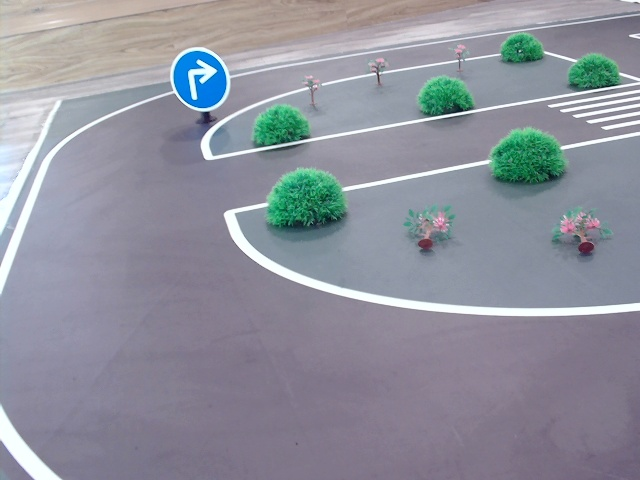turn_right: (183, 56, 217, 99)
